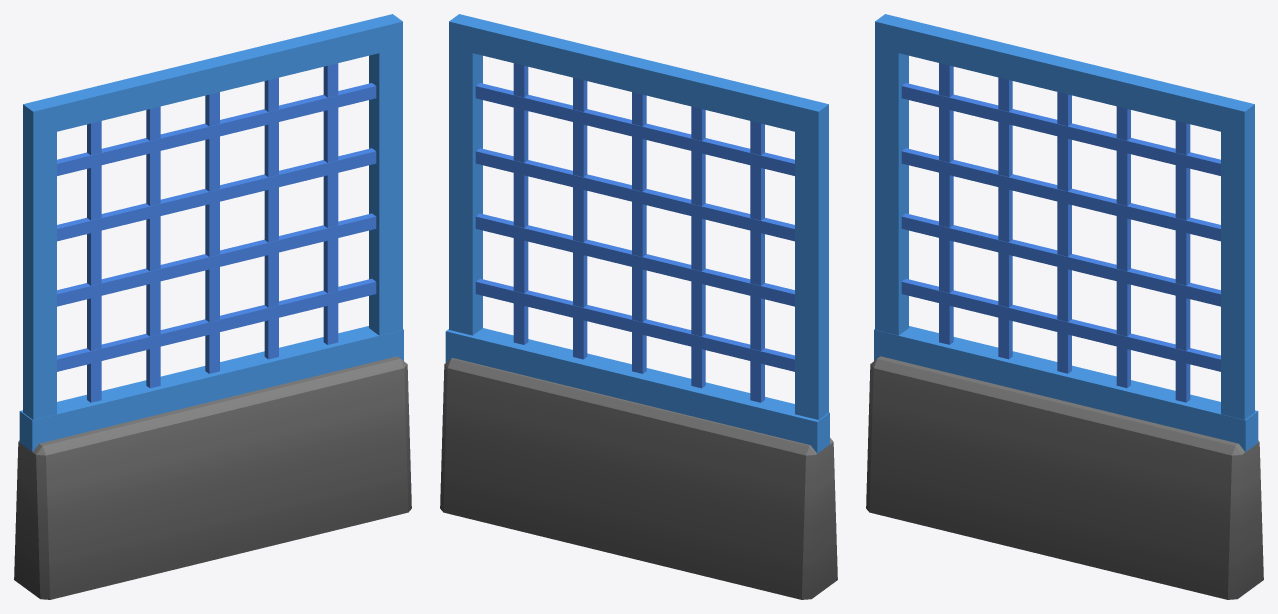
The model's file is Fence_1_G_5.fbx.
3 renders of one model, left to right at view 1: azimuth 30°, elevation 25°; view 2: azimuth 150°, elevation 25°; view 3: azimuth 330°, elevation 25°, orthographic.
Visible parts, largest first — view 1: Fence_1_G_5; view 2: Fence_1_G_5; view 3: Fence_1_G_5.
Part boxes in pixels (x1=…): Fence_1_G_5: x1=14, y1=14, x2=411, y2=599; Fence_1_G_5: x1=440, y1=14, x2=837, y2=599; Fence_1_G_5: x1=866, y1=14, x2=1263, y2=599.
Size of the model in its own units: 200 by 248 by 30.52.
